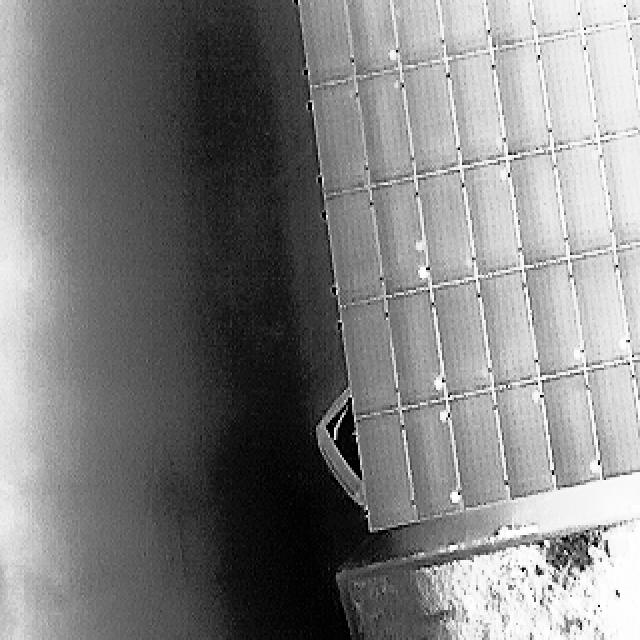Hotspots: (414, 259, 433, 290), (443, 484, 463, 512), (613, 328, 631, 357), (429, 369, 447, 397), (382, 45, 398, 74), (568, 344, 585, 364), (586, 456, 601, 476), (436, 408, 450, 428)
PV-modules: (563, 246, 632, 370), (398, 402, 466, 526), (321, 183, 389, 305), (459, 158, 527, 280), (353, 409, 419, 534), (538, 369, 605, 492), (336, 296, 403, 419), (472, 273, 541, 392), (350, 69, 418, 189), (550, 143, 618, 262), (523, 258, 590, 378), (489, 380, 556, 500), (448, 389, 514, 510), (427, 281, 493, 402), (398, 61, 464, 181), (489, 39, 555, 158), (310, 80, 377, 197), (503, 152, 570, 269), (413, 168, 478, 288), (384, 290, 449, 410), (364, 176, 429, 296), (536, 32, 602, 150), (447, 53, 512, 172), (576, 20, 640, 140), (582, 360, 640, 482), (294, 0, 358, 87), (598, 130, 640, 250), (342, 0, 404, 78), (390, 0, 451, 69), (434, 0, 492, 62), (612, 238, 640, 358), (482, 0, 538, 50), (532, 0, 585, 41), (624, 12, 640, 130), (626, 352, 640, 472), (574, 0, 630, 30), (620, 0, 640, 22)
